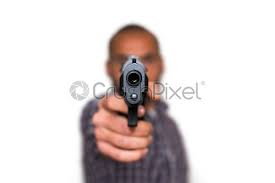gun: (121, 57, 147, 130)
